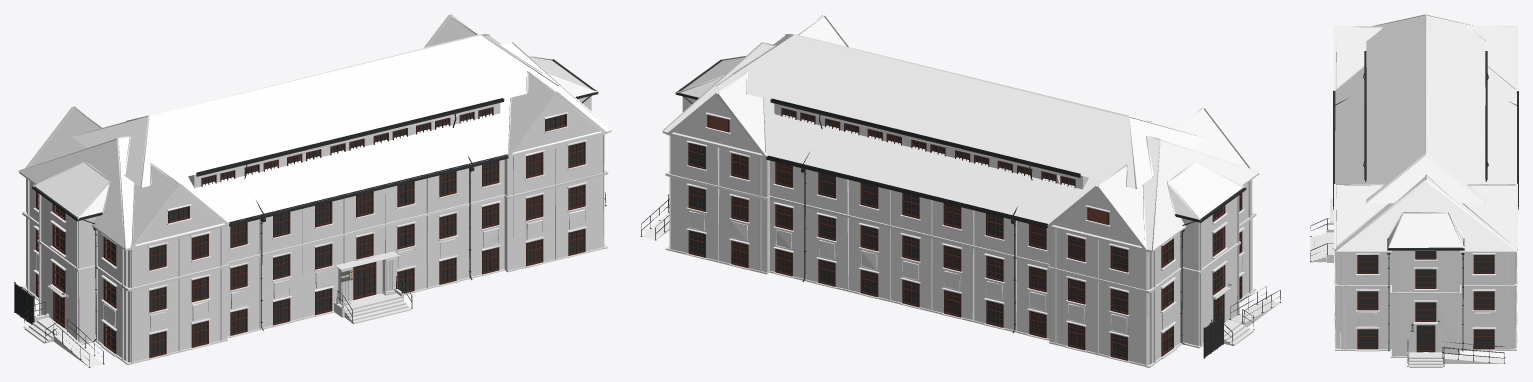
3 views of the same model, side by side, from view 1: azimuth 30°, elevation 25°; view 2: azimuth 150°, elevation 25°; view 3: azimuth 270°, elevation 25° (orthographic). The views are drawn at different scales.
Visible parts, largest first — view 1: HB42_V13_WEB_HB42_V13_WeatheredCharcoalTile, HB42_V13_WEB_HB42_V13_WarmMineralPlaster, HB42_V13_WEB_HB42_V13_PaleStone, HB42_V13_WEB_HB42_V13_CharcoalMetal, HB42_V13_WEB_HB42_V13_GraniteSteps, HB42_V13_Component_W_06_F1_door; view 2: HB42_V13_WEB_HB42_V13_WeatheredCharcoalTile, HB42_V13_WEB_HB42_V13_WarmMineralPlaster, HB42_V13_WEB_HB42_V13_PaleStone, HB42_V13_WEB_HB42_V13_CharcoalMetal, HB42_V13_WEB_HB42_V13_GraniteSteps; view 3: HB42_V13_WEB_HB42_V13_WeatheredCharcoalTile, HB42_V13_WEB_HB42_V13_WarmMineralPlaster, HB42_V13_WEB_HB42_V13_PaleStone, HB42_V13_WEB_HB42_V13_CharcoalMetal, HB42_V13_WEB_HB42_V13_GraniteSteps, HB42_V13_Component_S_02_entry_door, HB42_V13_Component_S_03_F1_window, HB42_V13_Component_S_01_F1_window, HB42_V13_Component_S_02_landing_lower_window, HB42_V13_Component_S_02_landing_upper_window, HB42_V13_Component_S_01_F2_window, HB42_V13_Component_S_03_F2_window (+3 smaller).
Boxes of the visible parts, bbox=[...] form: HB42_V13_WEB_HB42_V13_WeatheredCharcoalTile: bbox=[18, 15, 611, 250]; HB42_V13_WEB_HB42_V13_WarmMineralPlaster: bbox=[26, 96, 604, 362]; HB42_V13_WEB_HB42_V13_PaleStone: bbox=[22, 14, 608, 365]; HB42_V13_WEB_HB42_V13_CharcoalMetal: bbox=[14, 59, 606, 367]; HB42_V13_WEB_HB42_V13_GraniteSteps: bbox=[24, 204, 605, 367]; HB42_V13_Component_W_06_F1_door: bbox=[353, 262, 376, 299]; HB42_V13_WEB_HB42_V13_WeatheredCharcoalTile: bbox=[662, 15, 1259, 252]; HB42_V13_WEB_HB42_V13_WarmMineralPlaster: bbox=[669, 97, 1252, 365]; HB42_V13_WEB_HB42_V13_PaleStone: bbox=[665, 14, 1256, 367]; HB42_V13_WEB_HB42_V13_CharcoalMetal: bbox=[640, 60, 1280, 358]; HB42_V13_WEB_HB42_V13_GraniteSteps: bbox=[642, 206, 1279, 345]; HB42_V13_WEB_HB42_V13_WeatheredCharcoalTile: bbox=[1335, 14, 1517, 252]; HB42_V13_WEB_HB42_V13_WarmMineralPlaster: bbox=[1335, 250, 1516, 357]; HB42_V13_WEB_HB42_V13_PaleStone: bbox=[1310, 25, 1517, 357]; HB42_V13_WEB_HB42_V13_CharcoalMetal: bbox=[1310, 51, 1518, 366]; HB42_V13_WEB_HB42_V13_GraniteSteps: bbox=[1310, 229, 1504, 367]; HB42_V13_Component_S_02_entry_door: bbox=[1416, 325, 1435, 352]; HB42_V13_Component_S_03_F1_window: bbox=[1357, 329, 1378, 349]; HB42_V13_Component_S_01_F1_window: bbox=[1473, 329, 1494, 349]; HB42_V13_Component_S_02_landing_lower_window: bbox=[1415, 302, 1436, 321]; HB42_V13_Component_S_02_landing_upper_window: bbox=[1415, 269, 1436, 288]; HB42_V13_Component_S_01_F2_window: bbox=[1473, 291, 1494, 310]; HB42_V13_Component_S_03_F2_window: bbox=[1357, 291, 1378, 310].
Size of the model in its own units: 39.32 by 12.96 by 14.72.
